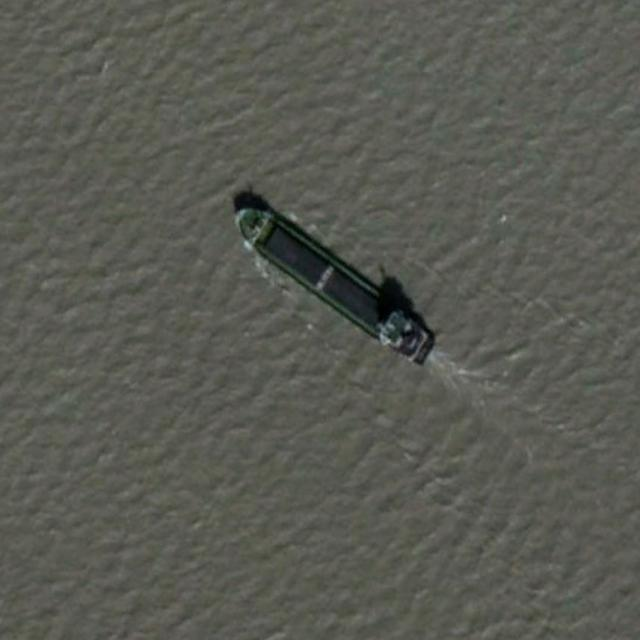ship: (230, 199, 438, 363)
